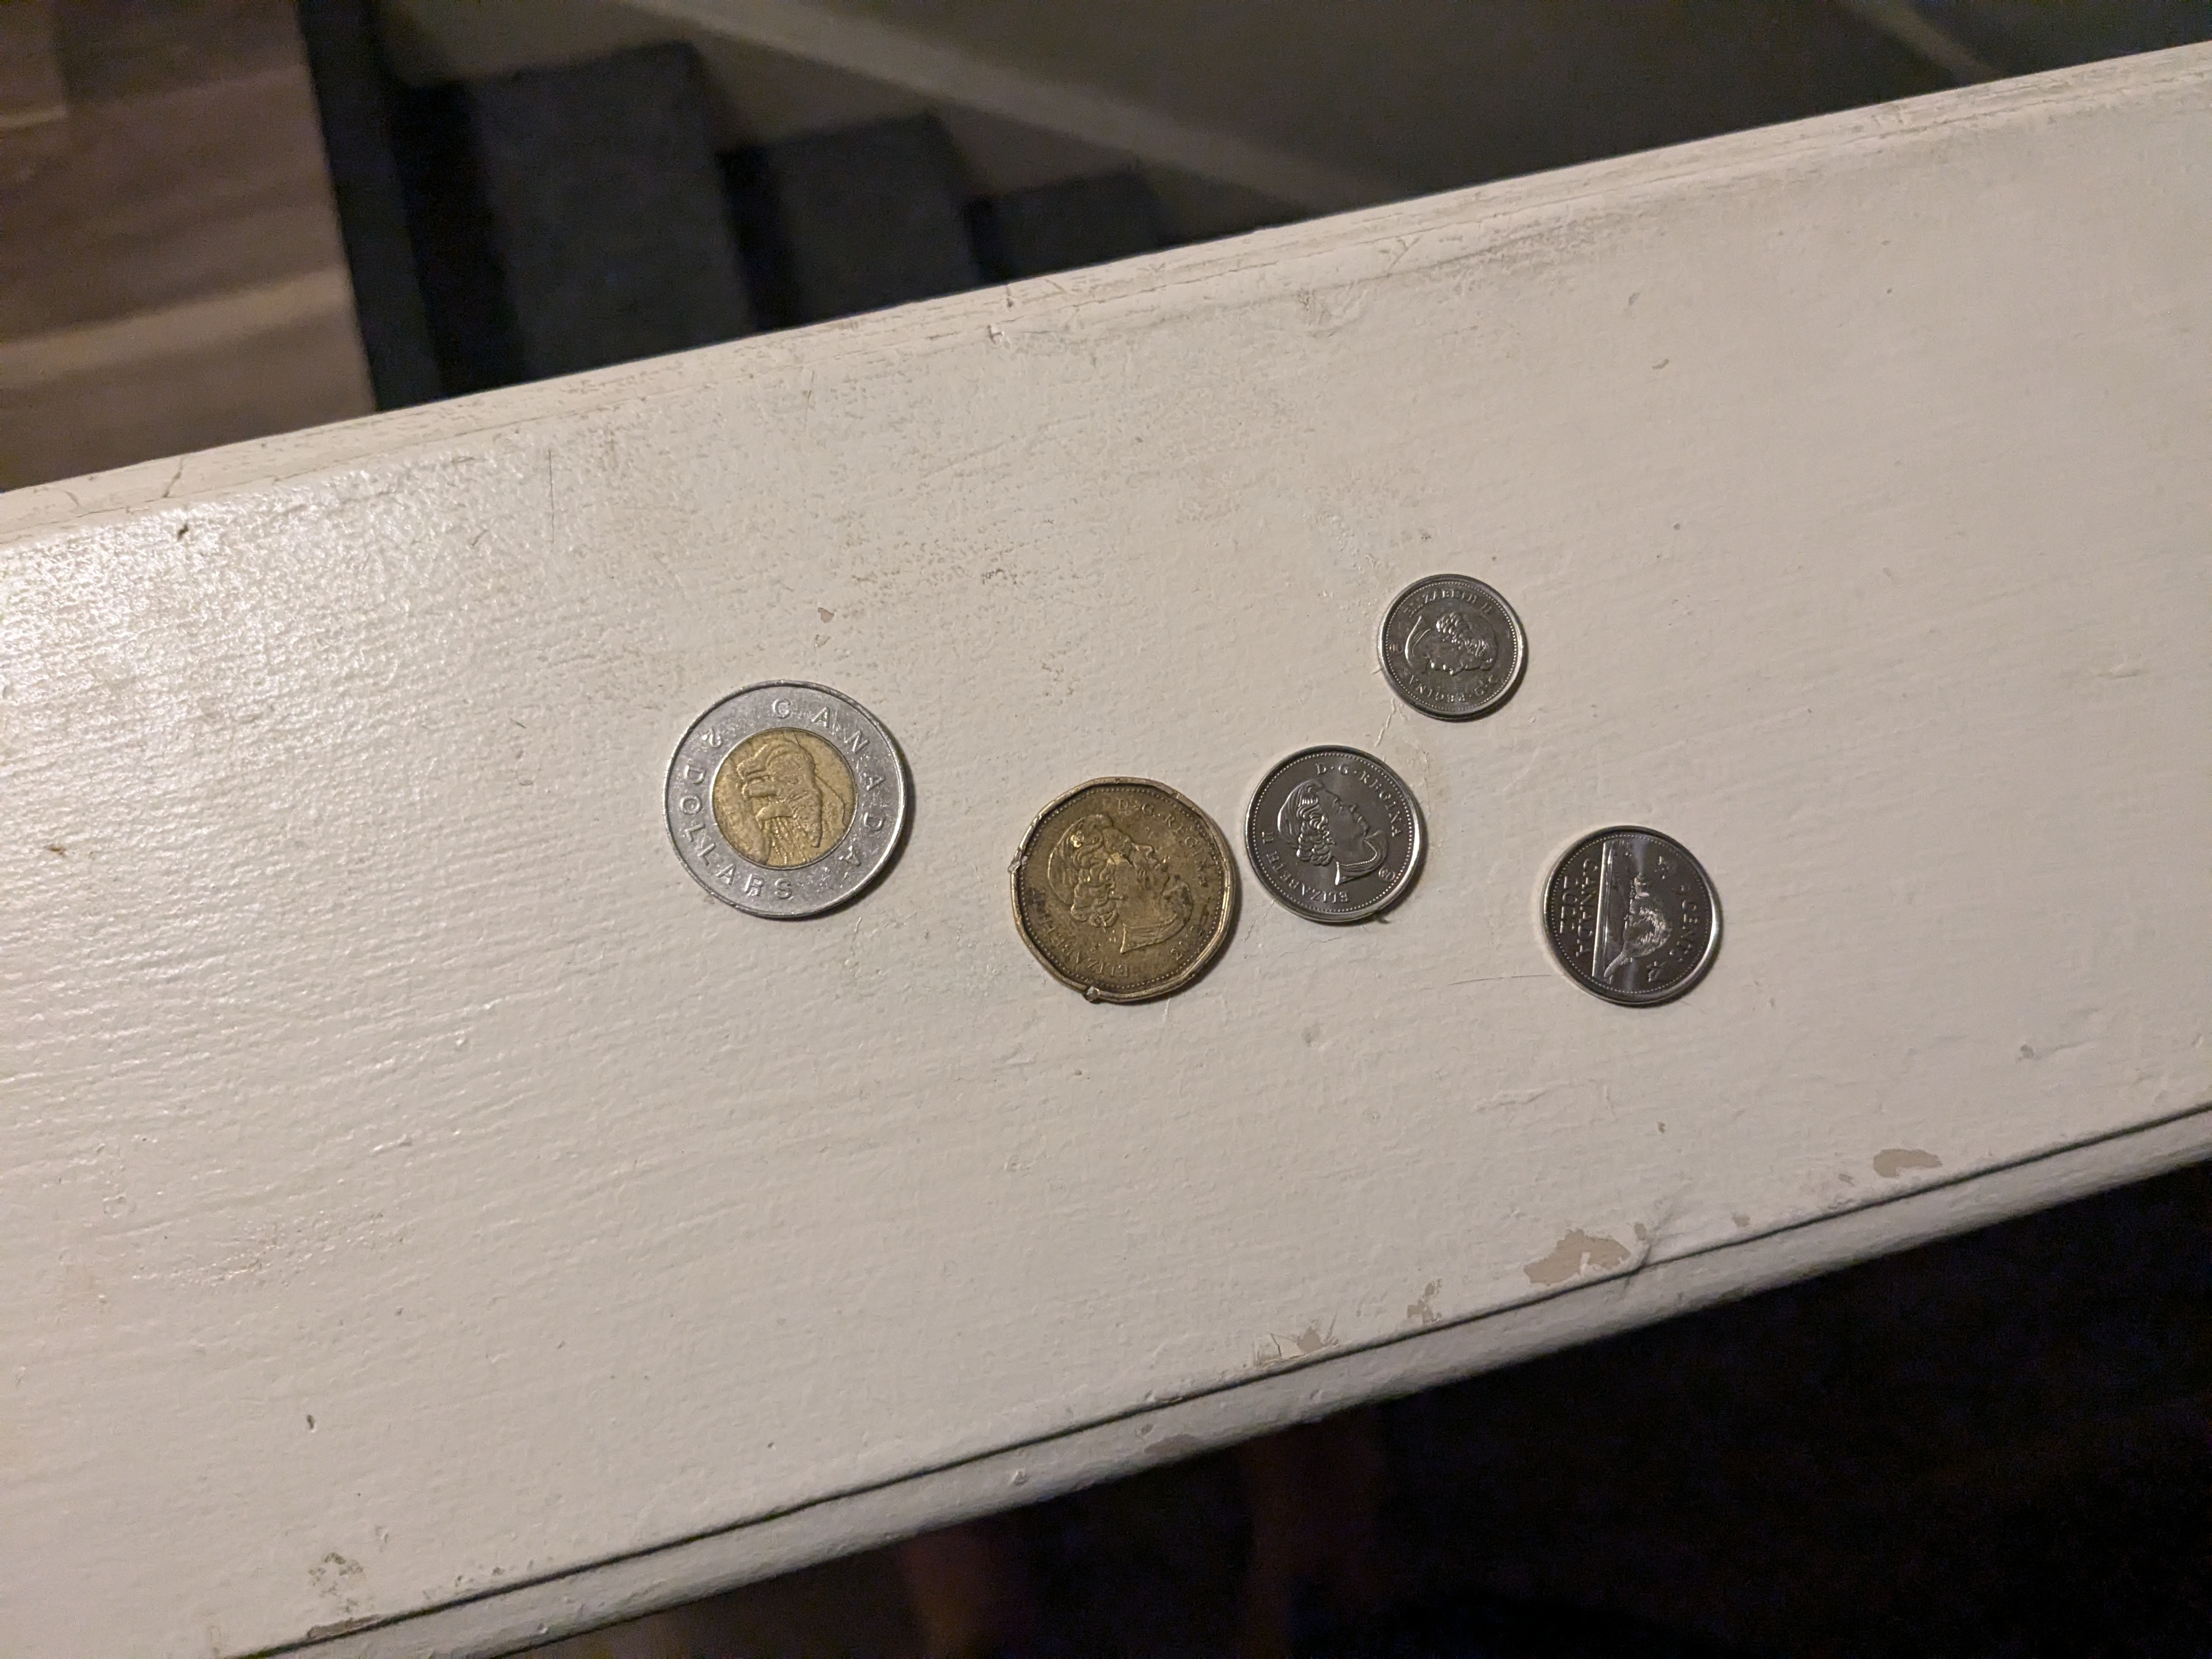dime: (1379, 556, 1533, 730)
loonie: (1008, 775, 1247, 1012)
nickel: (1247, 741, 1430, 938), (1543, 828, 1737, 1012)
toonie: (658, 683, 923, 931)
